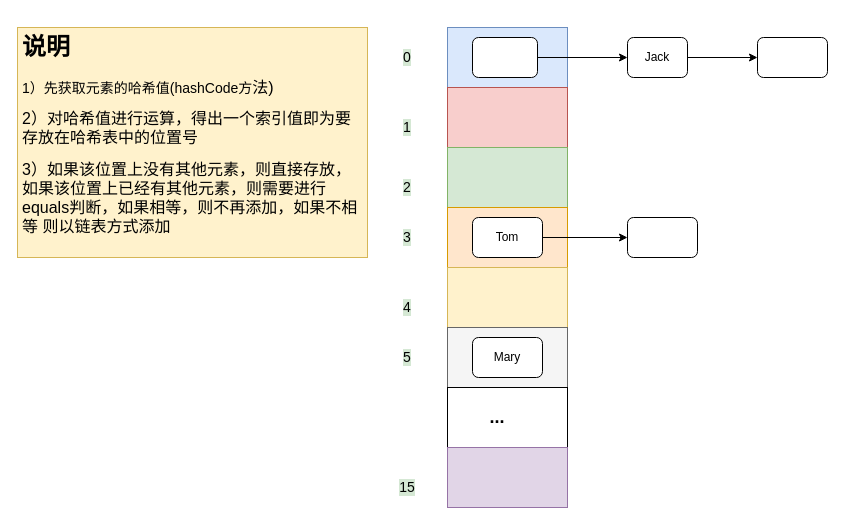
Image size: 845x525. Some labels were removed from this diagram. The shapes that lost their labels are listed below. From the top down, each one's centre as x and y in pixels, then its label:
At point 505,57: "John".
At point 792,57: "Lucy".
At point 662,237: "Jerry".
